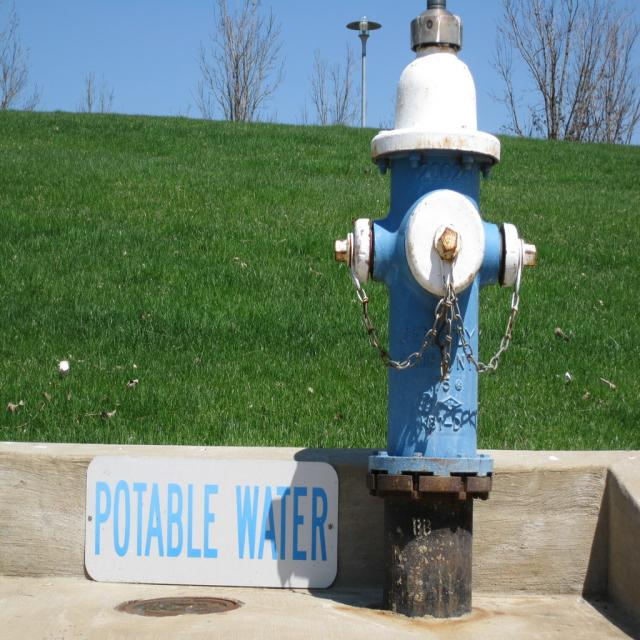fire_hydrant: (337, 0, 535, 617)
